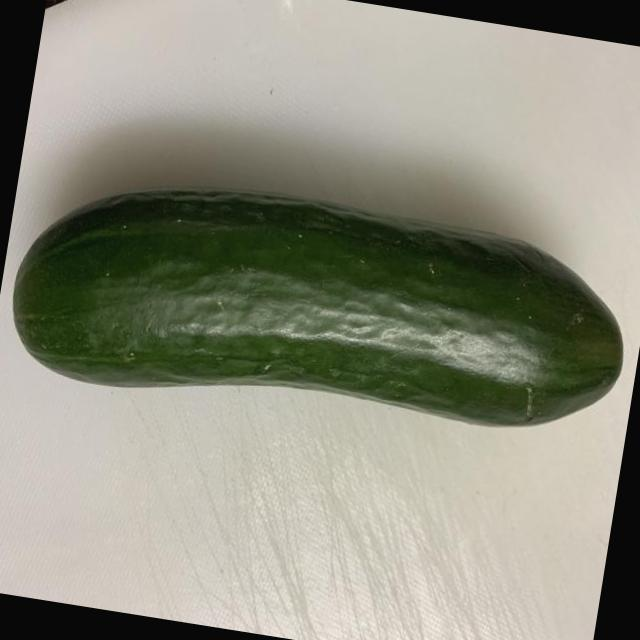Cucumber: (0, 142, 640, 465)
